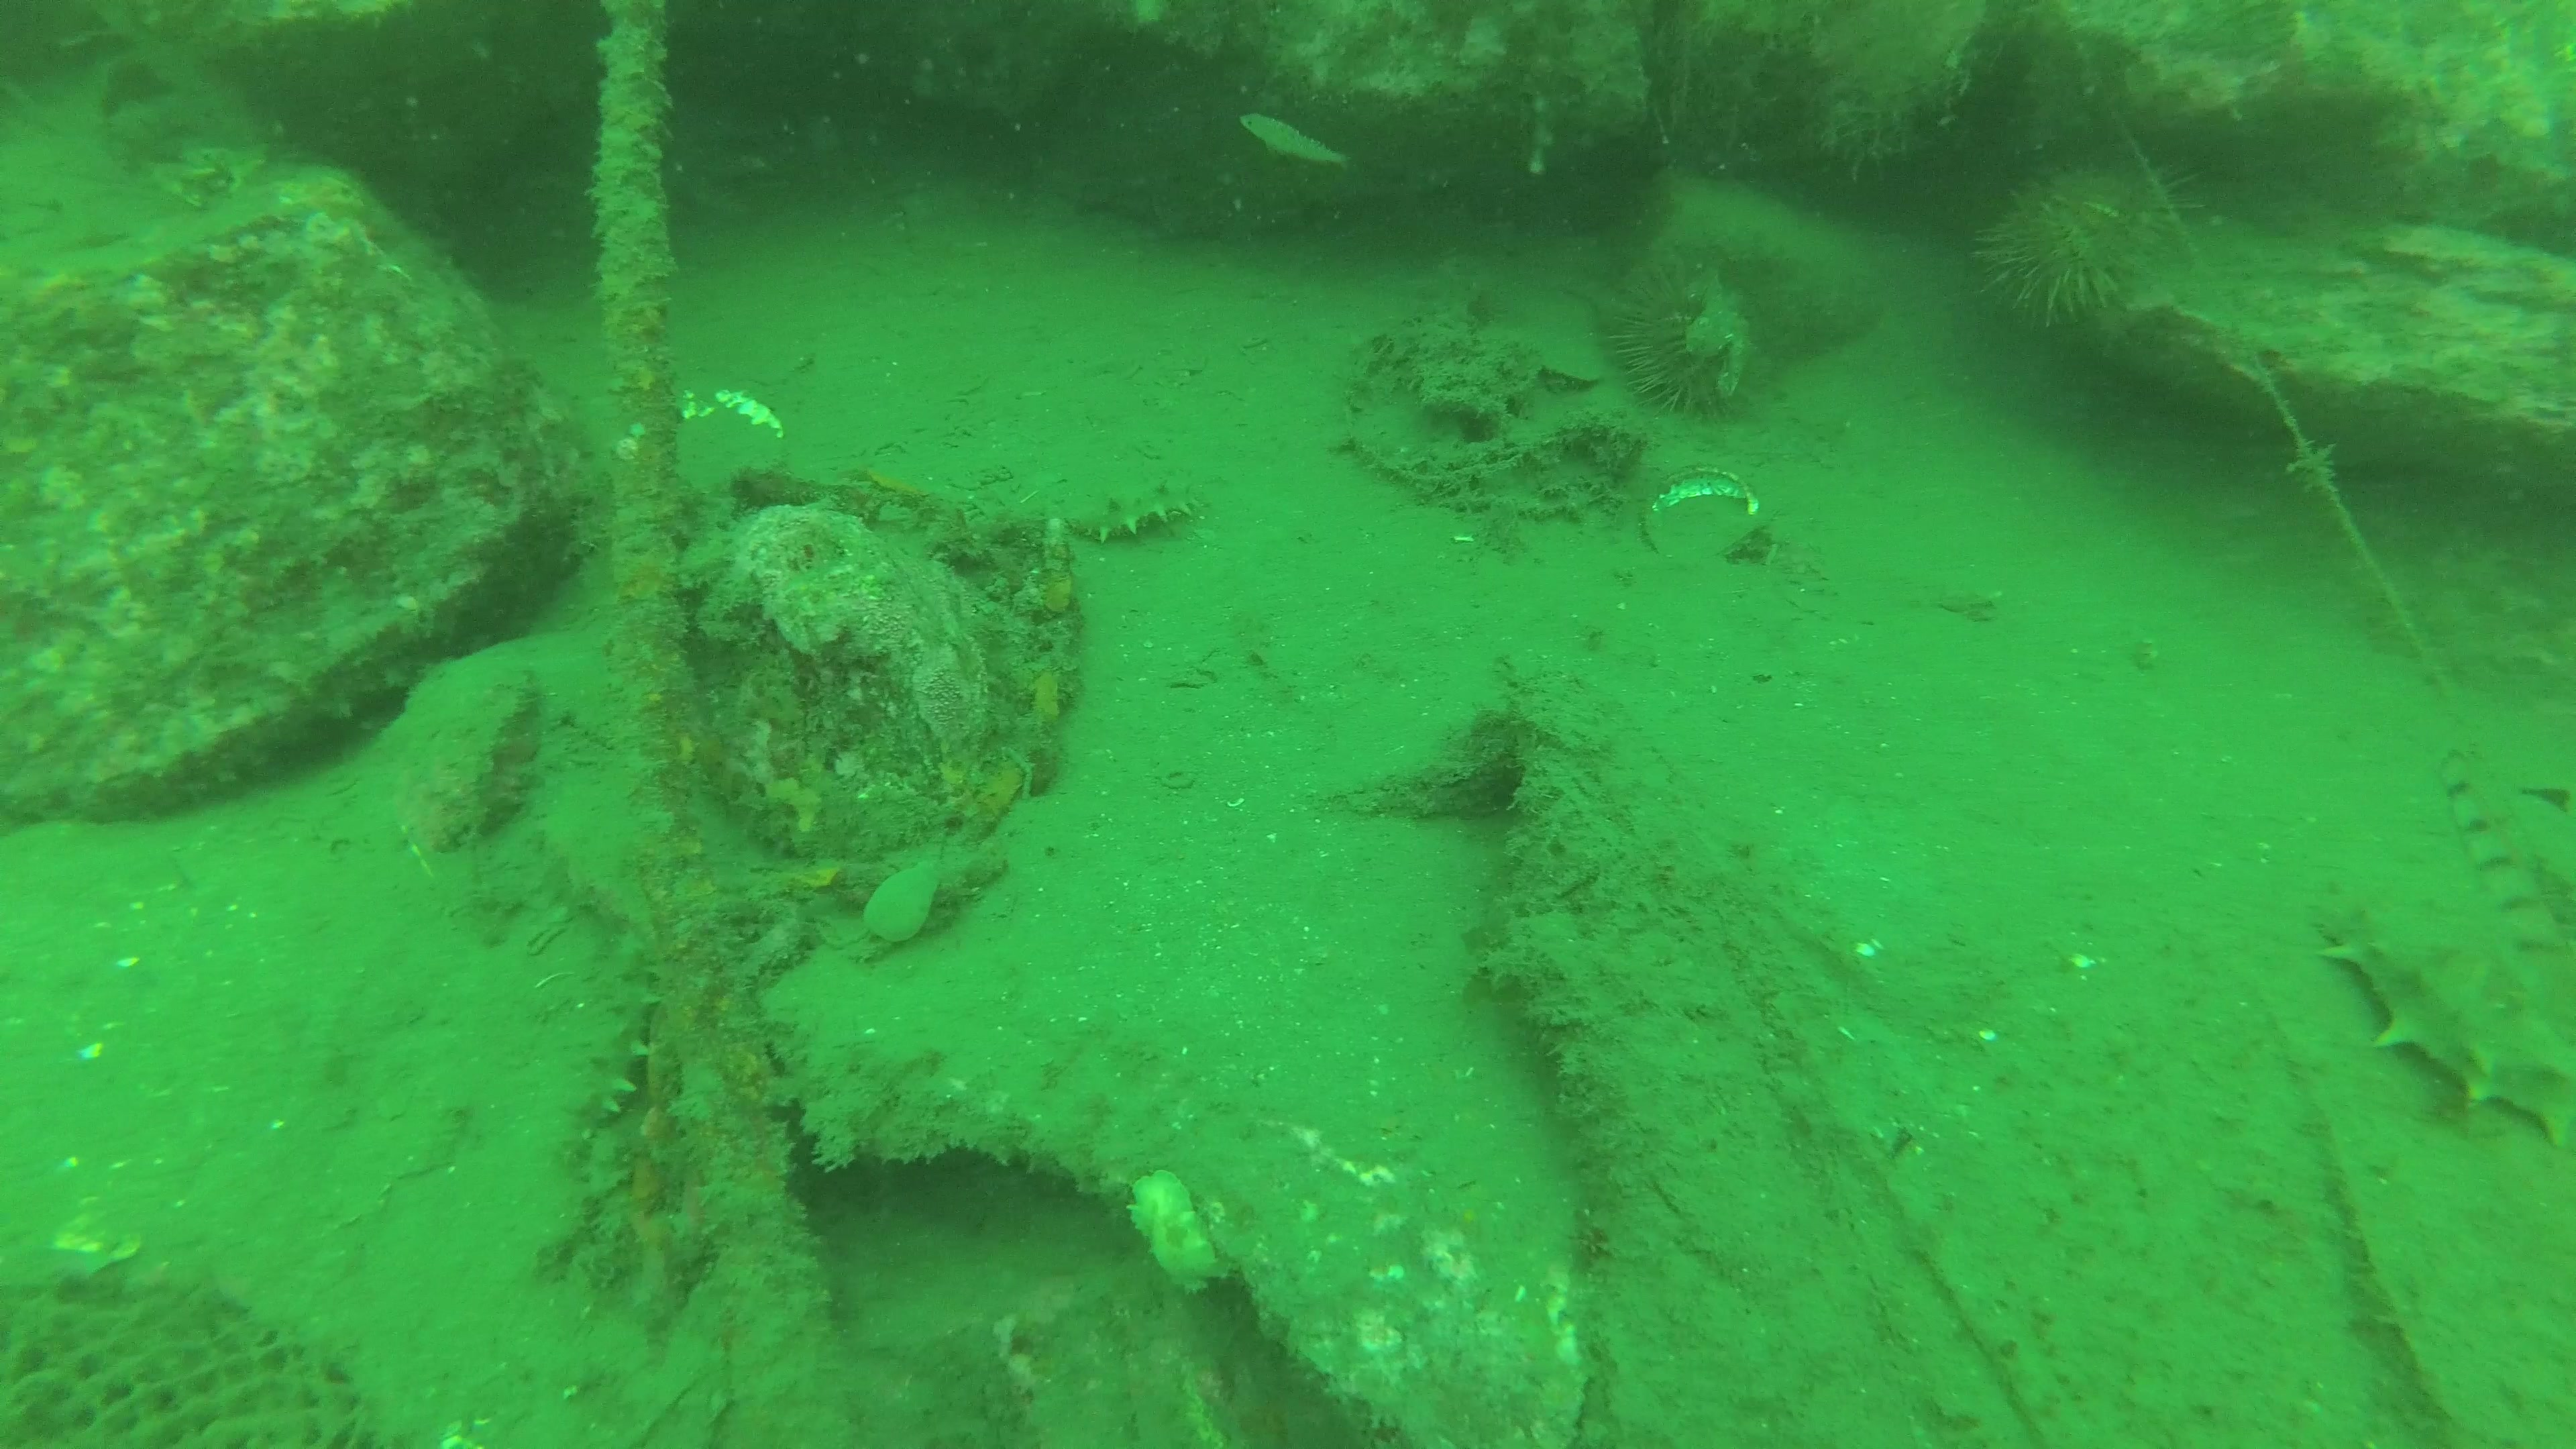echinus: (1976, 154, 2203, 336), (1606, 239, 1767, 419)
holothurian: (2302, 879, 2576, 1171), (564, 941, 662, 1157), (1044, 478, 1210, 548)
